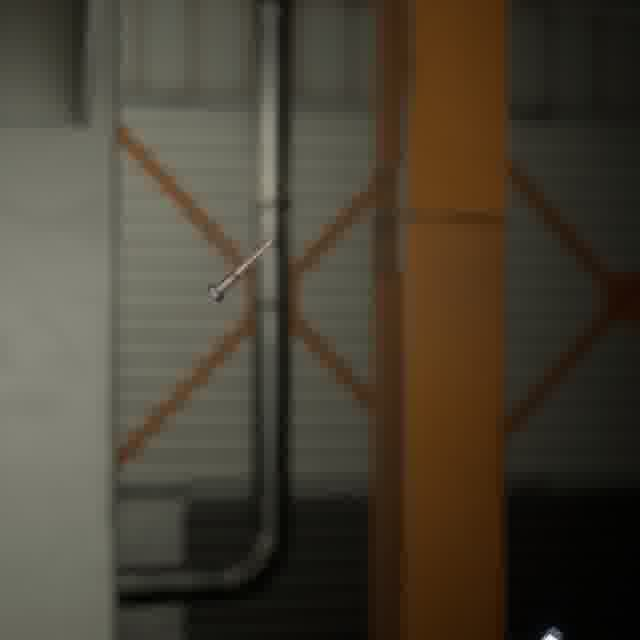bolt: (202, 231, 281, 306)
